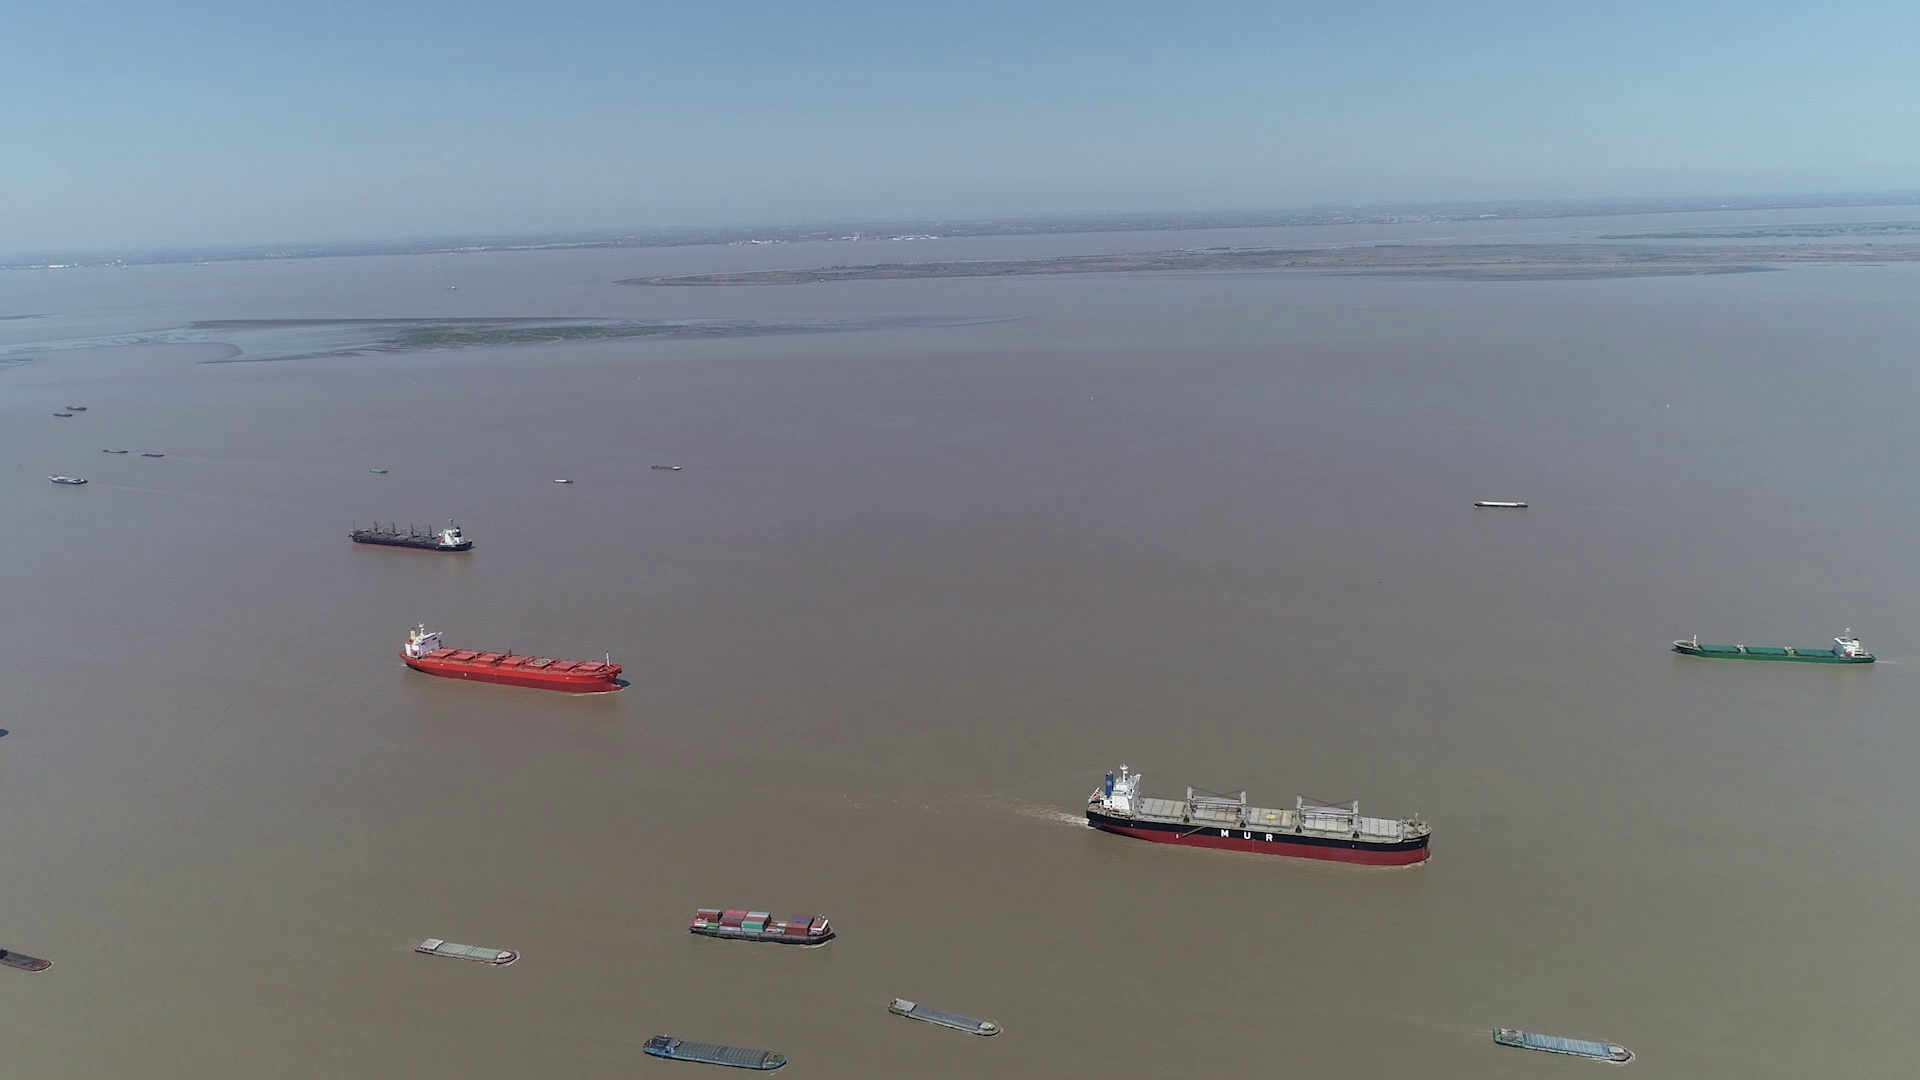ship: (1087, 767, 1432, 865), (400, 624, 618, 694), (1672, 632, 1875, 665), (690, 906, 835, 945), (641, 1035, 789, 1073), (1494, 1029, 1635, 1065), (347, 517, 473, 553), (889, 998, 998, 1038), (415, 938, 520, 964), (0, 943, 51, 973), (1474, 500, 1527, 510), (47, 473, 88, 485)
